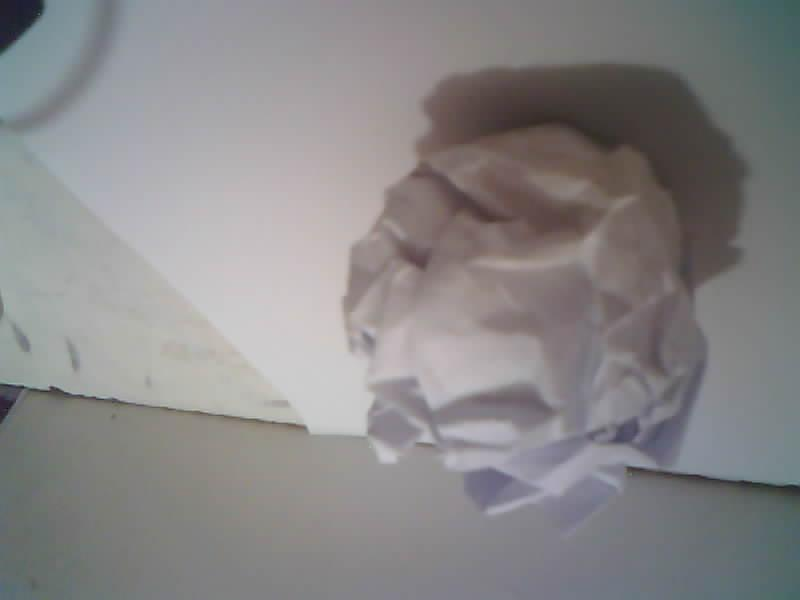biodegradable: (342, 125, 706, 530)
